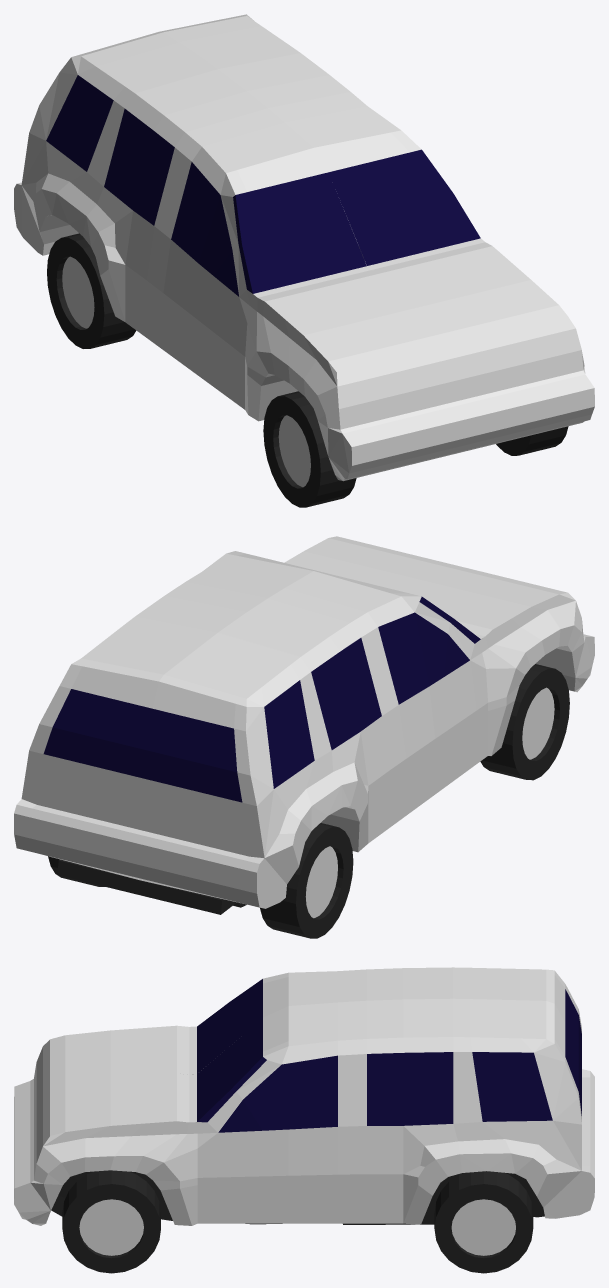
The model's file is SUV.fbx.
3 renders of one model, top to bottom at view 1: azimuth 30°, elevation 25°; view 2: azimuth 150°, elevation 25°; view 3: azimuth 270°, elevation 25°, orthographic. The views are drawn at different scales.
Visible parts, largest first — view 1: Cube; view 2: Cube; view 3: Cube.
Part boxes in pixels (x1,y1,x2,y2): Cube: [14, 14, 594, 507]; Cube: [14, 536, 594, 938]; Cube: [14, 967, 594, 1273].
Size of the model in its own units: 3.75 by 3.58 by 8.47.
